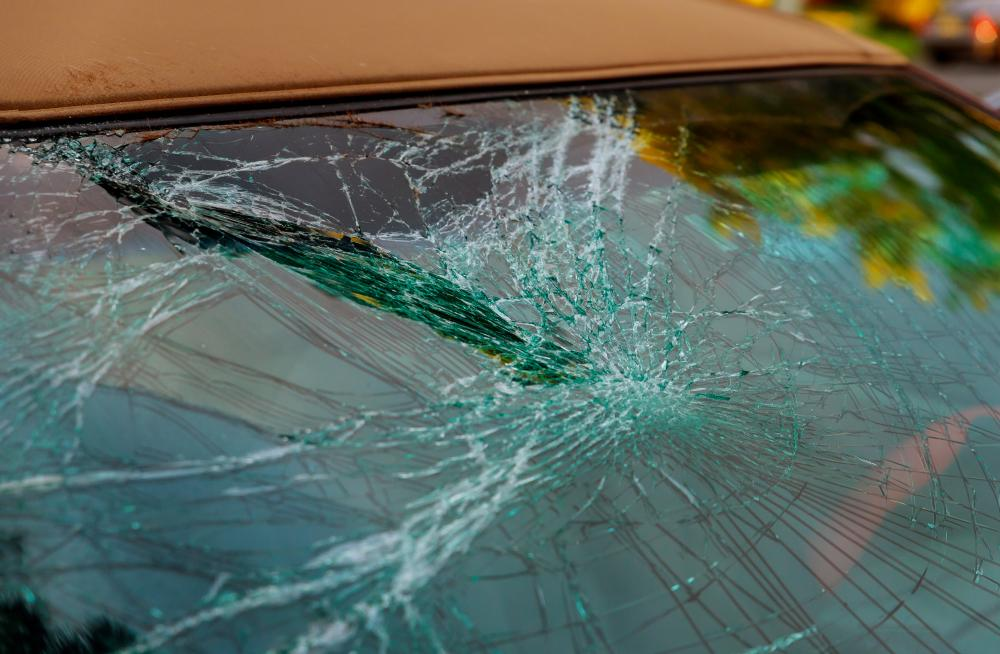glass shatter: (0, 72, 1000, 654)
